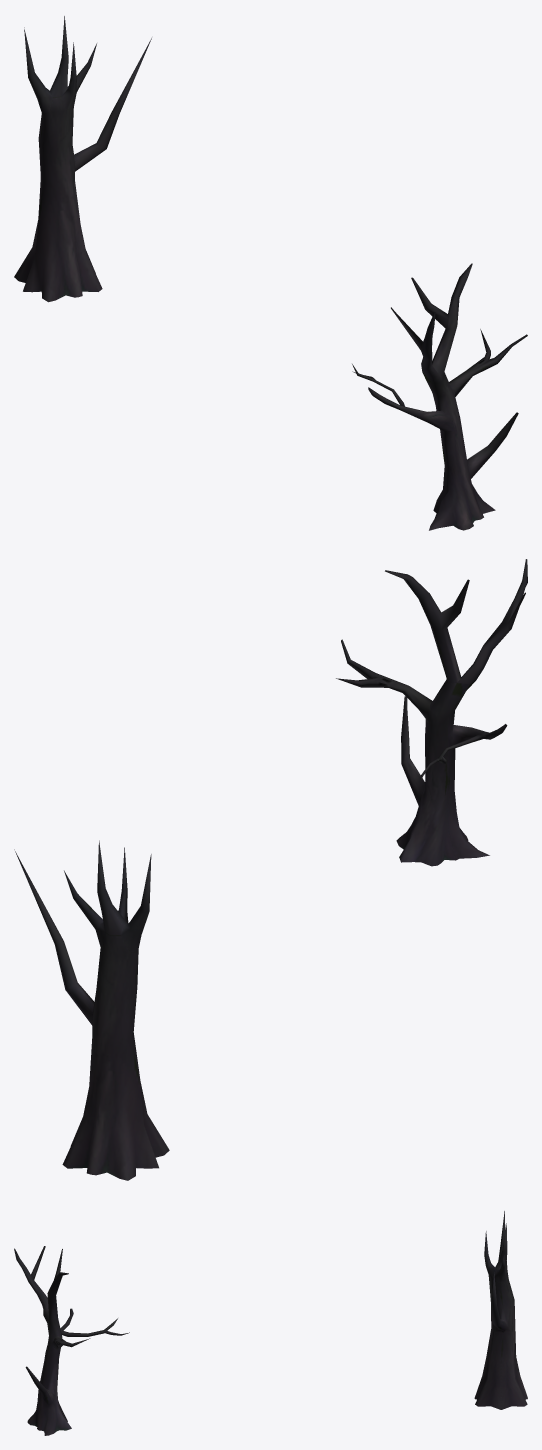
Rendered from Area06_12.fbx.
The picture shows the model from 3 angles, top to bottom: view 1: azimuth 30°, elevation 25°; view 2: azimuth 150°, elevation 25°; view 3: azimuth 270°, elevation 25°; orthographic projection. The views are drawn at different scales.
Parts seen in each view (by area): view 1: Area06_12; view 2: Area06_12; view 3: Area06_12.
Part boxes in pixels (x1,y1,x2,y2): Area06_12: (14,16,527,530); Area06_12: (14,559,527,1180); Area06_12: (14,1211,527,1435).
Size of the model in its own units: 987 by 1435 by 3640.
